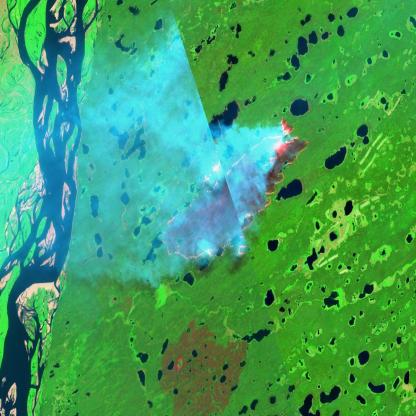fire: (160, 115, 310, 264)
